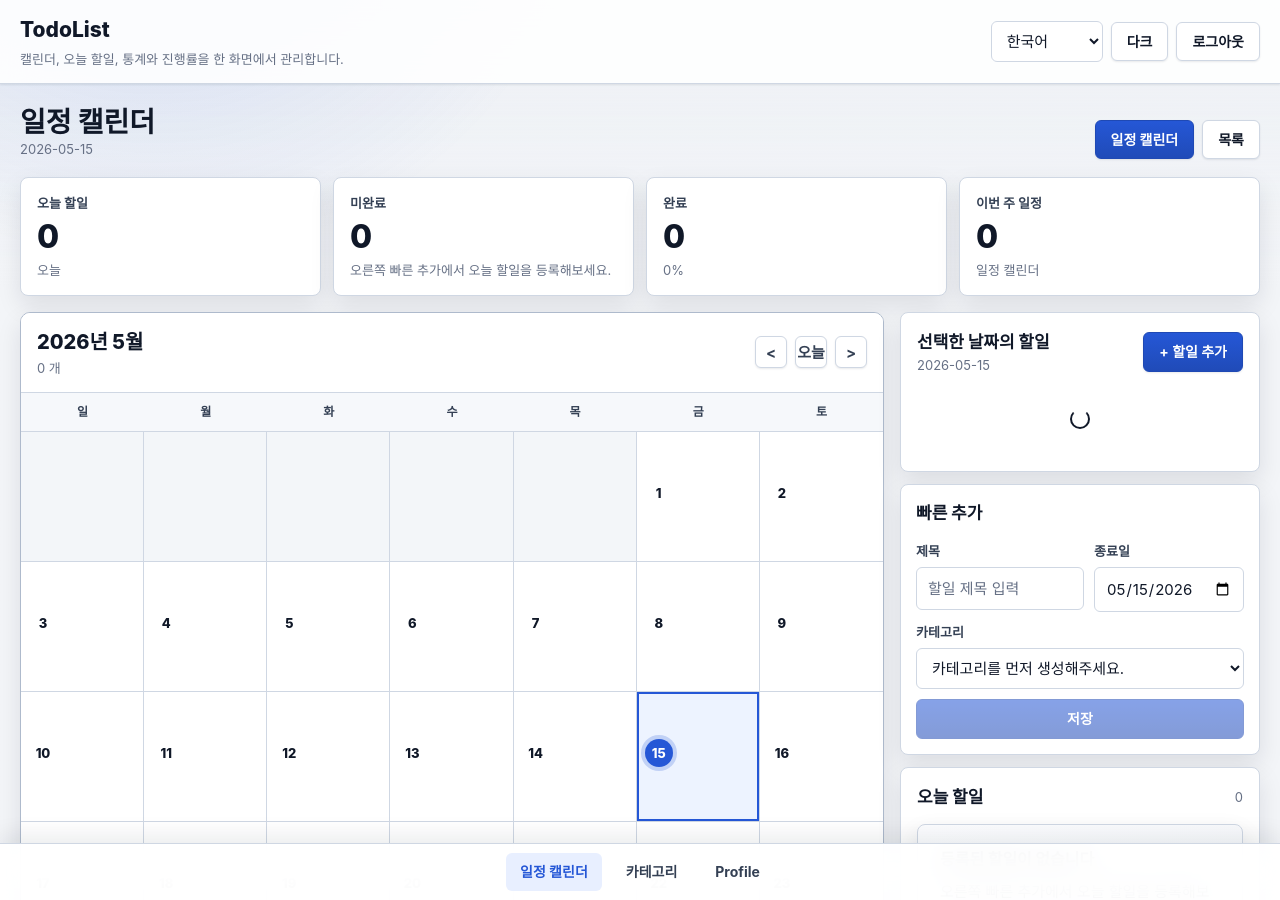
TodoListPage › 삭제 버튼 클릭 시 삭제 확인 다이얼로그가 열린다
The width and height of the screenshot is (1280, 900).
Step 1. Click the button "목록" → (1231, 140), box [1202,120,1260,159]
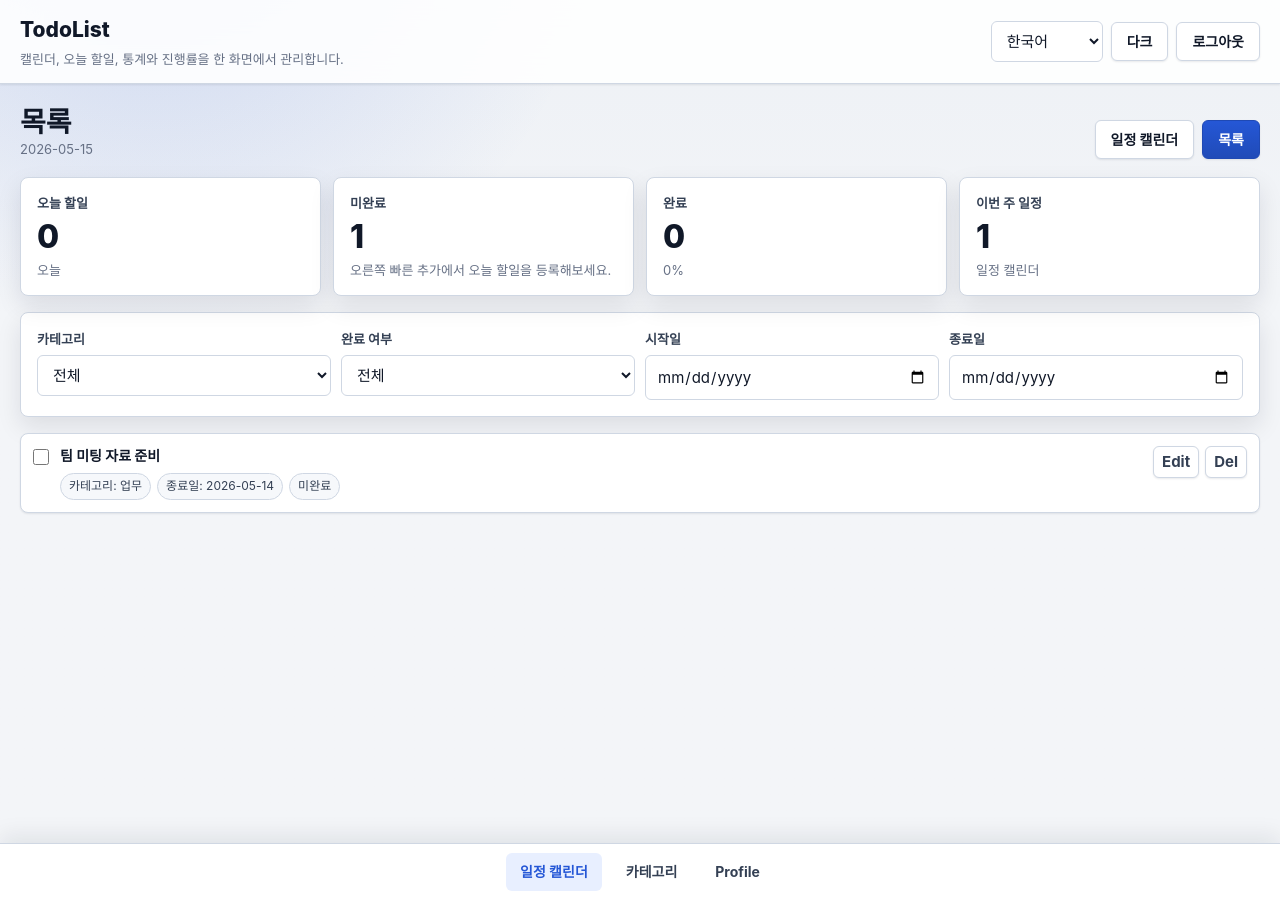
Expected: the text "팀 미팅 자료 준비" is shown, [60,447,160,464]
Step 2. Click the button with aria-label "삭제: 팀 미팅 자료 준비" → (1226, 462), box [1205,446,1247,478]
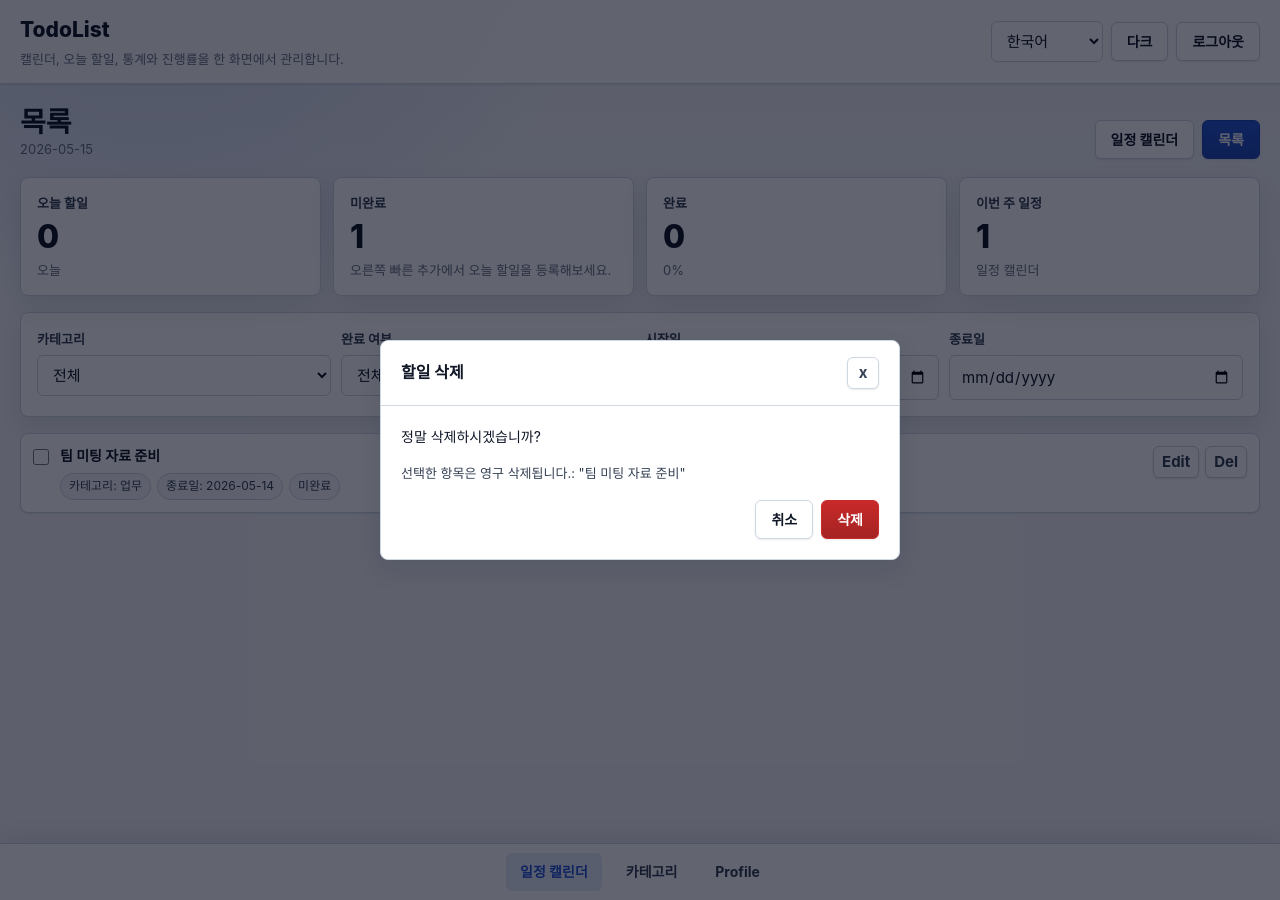
Expected: the dialog "할일 삭제" is shown
Expected: the text "정말 삭제하시겠습니까?" is shown, [401,428,541,445]
